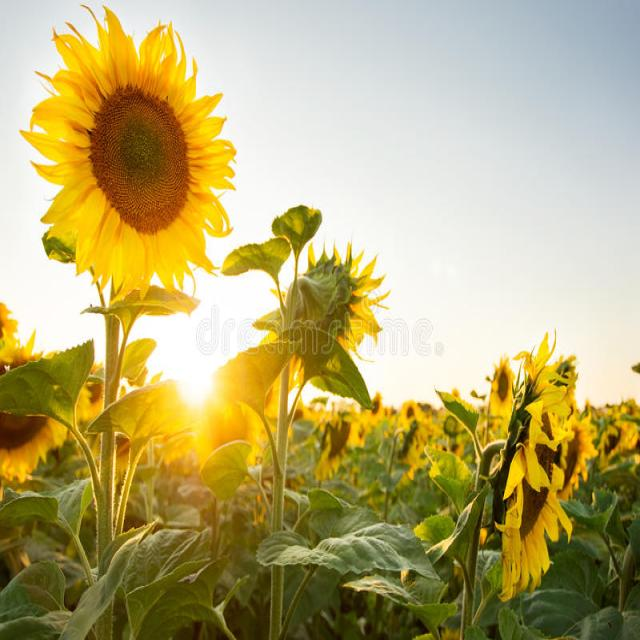sunflower: (27, 0, 236, 297), (486, 343, 578, 608), (260, 227, 389, 397), (481, 351, 522, 419)
